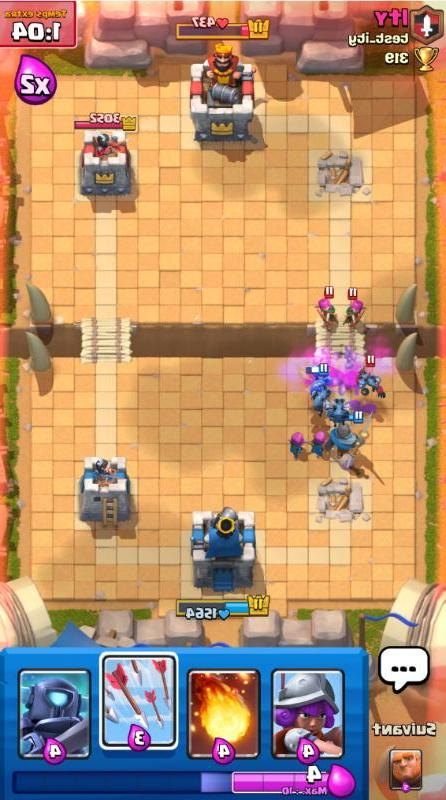archere: (342, 287, 367, 332), (316, 286, 339, 331), (287, 431, 309, 460), (308, 431, 327, 459)
chevalier: (324, 410, 373, 460)
gargouille: (355, 355, 385, 398), (307, 363, 332, 396), (324, 398, 351, 427), (310, 384, 331, 416)
